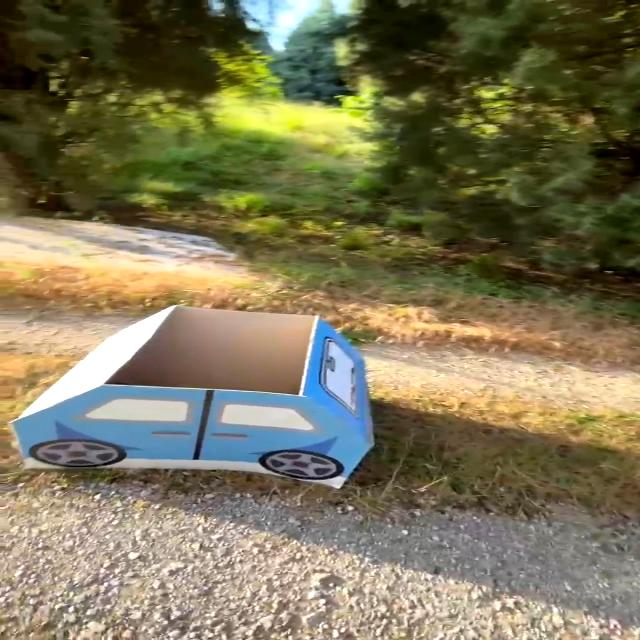blue_car: (0, 273, 450, 506)
